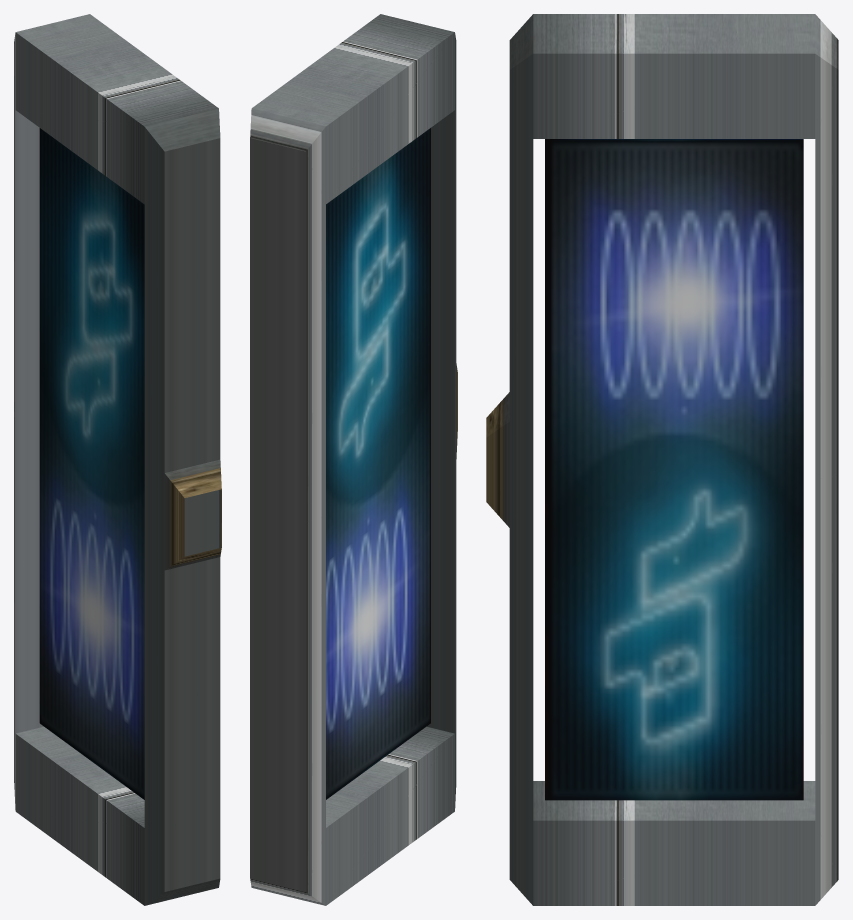
3 views of the same model, side by side, from view 1: azimuth 30°, elevation 25°; view 2: azimuth 150°, elevation 25°; view 3: azimuth 270°, elevation 25° (orthographic). The views are drawn at different scales.
Parts seen in each view (by area): view 1: si03, part04, part05, part03, part01, part02, B_Qtsign01; view 2: si03, part01, part03, part02, part04, part05; view 3: si01, part03, part02, part01, part05, part04, B_Qtsign01.
Boxes of the visible parts, x1,y1,x2,y2 form: si03: (39,128,144,799); part04: (144,498,220,891); part05: (144,138,220,515); part03: (14,14,220,204); part01: (14,44,43,779); part02: (14,726,220,905); B_Qtsign01: (144,459,221,570); si03: (326,128,430,799); part01: (250,138,325,891); part03: (250,14,456,203); part02: (250,726,456,905); part04: (427,416,456,772); part05: (431,55,456,421); si01: (545,139,803,800); part03: (509,14,838,138); part02: (509,781,838,905); part01: (815,71,838,878); part05: (509,70,533,479); part04: (509,480,533,878); B_Qtsign01: (486,392,532,527).
Bounding box in the file's own units: 8.88 × 88.81 × 33.3.
Materials: 3 (3 with a texture image).
